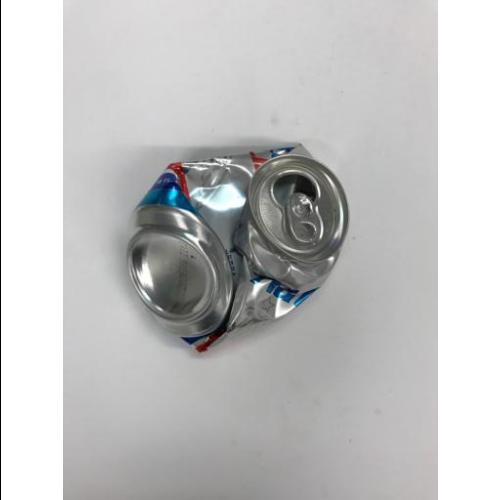metal: (135, 144, 349, 352)
